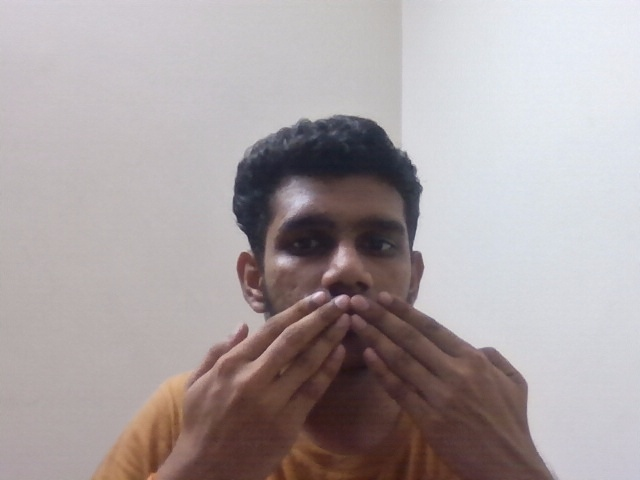thanks: (158, 281, 555, 460)
